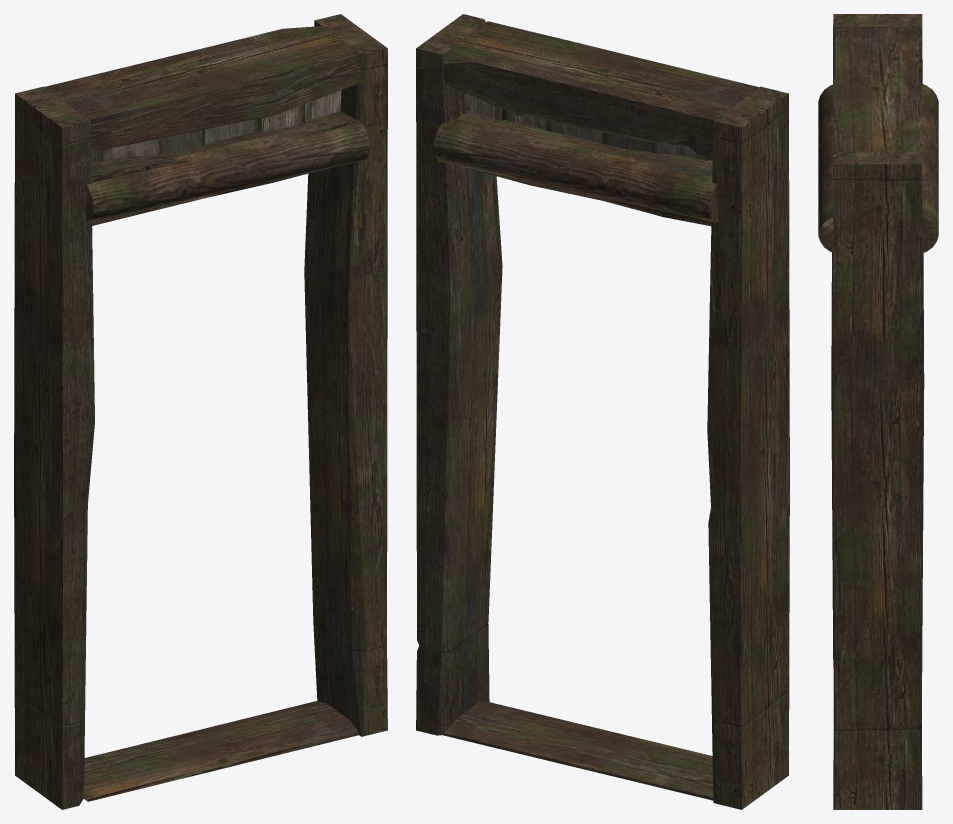
3 views of the same model, side by side, from view 1: azimuth 30°, elevation 25°; view 2: azimuth 150°, elevation 25°; view 3: azimuth 270°, elevation 25° (orthographic). The views are drawn at different scales.
Parts seen in each view (by area): view 1: SM_BB_T1_Wall_Doorframe_Narrow_LOD0; view 2: SM_BB_T1_Wall_Doorframe_Narrow_LOD0; view 3: SM_BB_T1_Wall_Doorframe_Narrow_LOD0.
Boxes of the visible parts, x1=… form: SM_BB_T1_Wall_Doorframe_Narrow_LOD0: x1=14, y1=14, x2=387, y2=809; SM_BB_T1_Wall_Doorframe_Narrow_LOD0: x1=416, y1=14, x2=789, y2=809; SM_BB_T1_Wall_Doorframe_Narrow_LOD0: x1=818, y1=14, x2=938, y2=809.
Bounding box in the file's own units: 1.5 × 3 × 0.5081.
2 materials, 2 textured.
